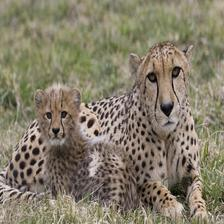Cheetah: (34, 83, 139, 218)
